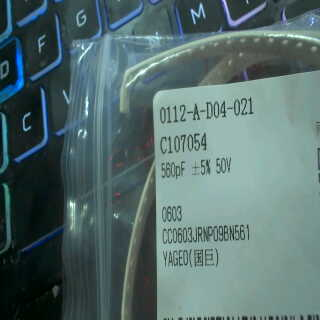560pF: (156, 158, 188, 181)
